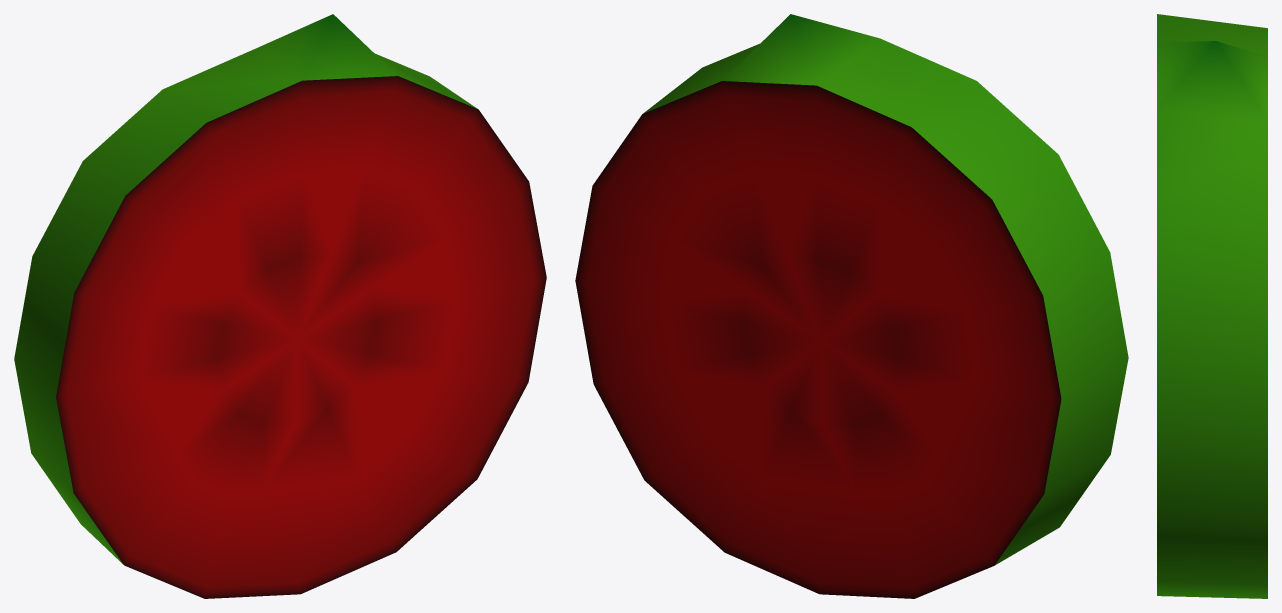
Rendered from Cucumber_Slice_14.fbx.
3 renders of one model, left to right at view 1: azimuth 30°, elevation 25°; view 2: azimuth 150°, elevation 25°; view 3: azimuth 270°, elevation 25°, orthographic. The views are drawn at different scales.
Parts seen in each view (by area): view 1: Cucumber_Slice_14; view 2: Cucumber_Slice_14; view 3: Cucumber_Slice_14.
Boxes of the visible parts, x1,y1,x2,y2 form: Cucumber_Slice_14: (14, 14, 546, 598); Cucumber_Slice_14: (575, 14, 1128, 598); Cucumber_Slice_14: (1157, 14, 1267, 598).
Bounding box in the file's own units: 4.53 × 4.77 × 0.8612.
